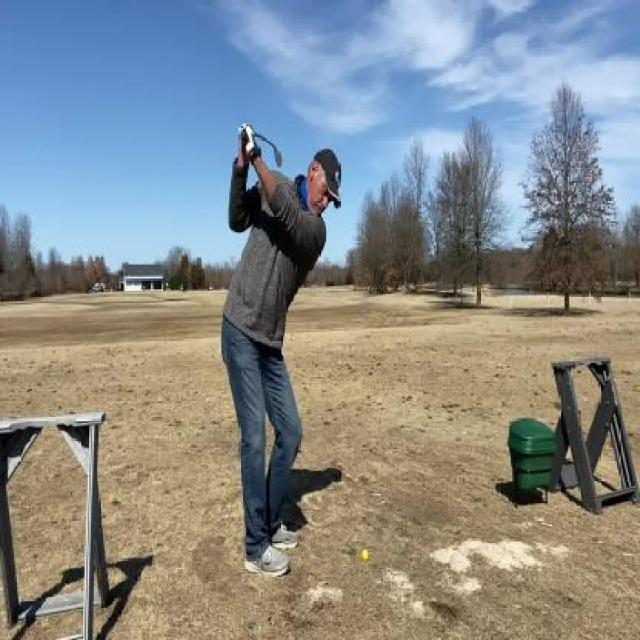club head: (270, 143, 282, 168)
